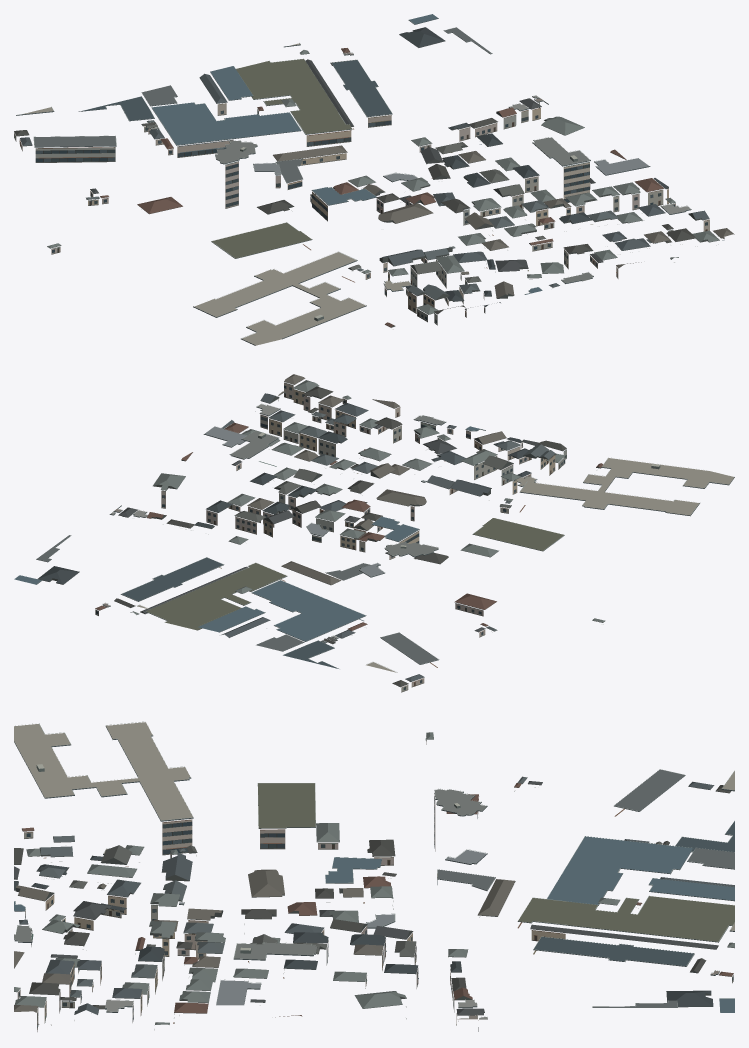
3 renders of one model, top to bottom at view 1: azimuth 30°, elevation 25°; view 2: azimuth 150°, elevation 25°; view 3: azimuth 270°, elevation 25°, orthographic. The views are drawn at different scales.
Parts seen in each view (by area): view 1: r7-c2; view 2: r7-c2; view 3: r7-c2.
Part boxes in pixels (<box>): r7-c2: <box>14,14,734,345</box>; r7-c2: <box>14,374,734,692</box>; r7-c2: <box>14,721,734,1031</box>.
Size of the model in its own units: 245 by 21.66 by 250.
